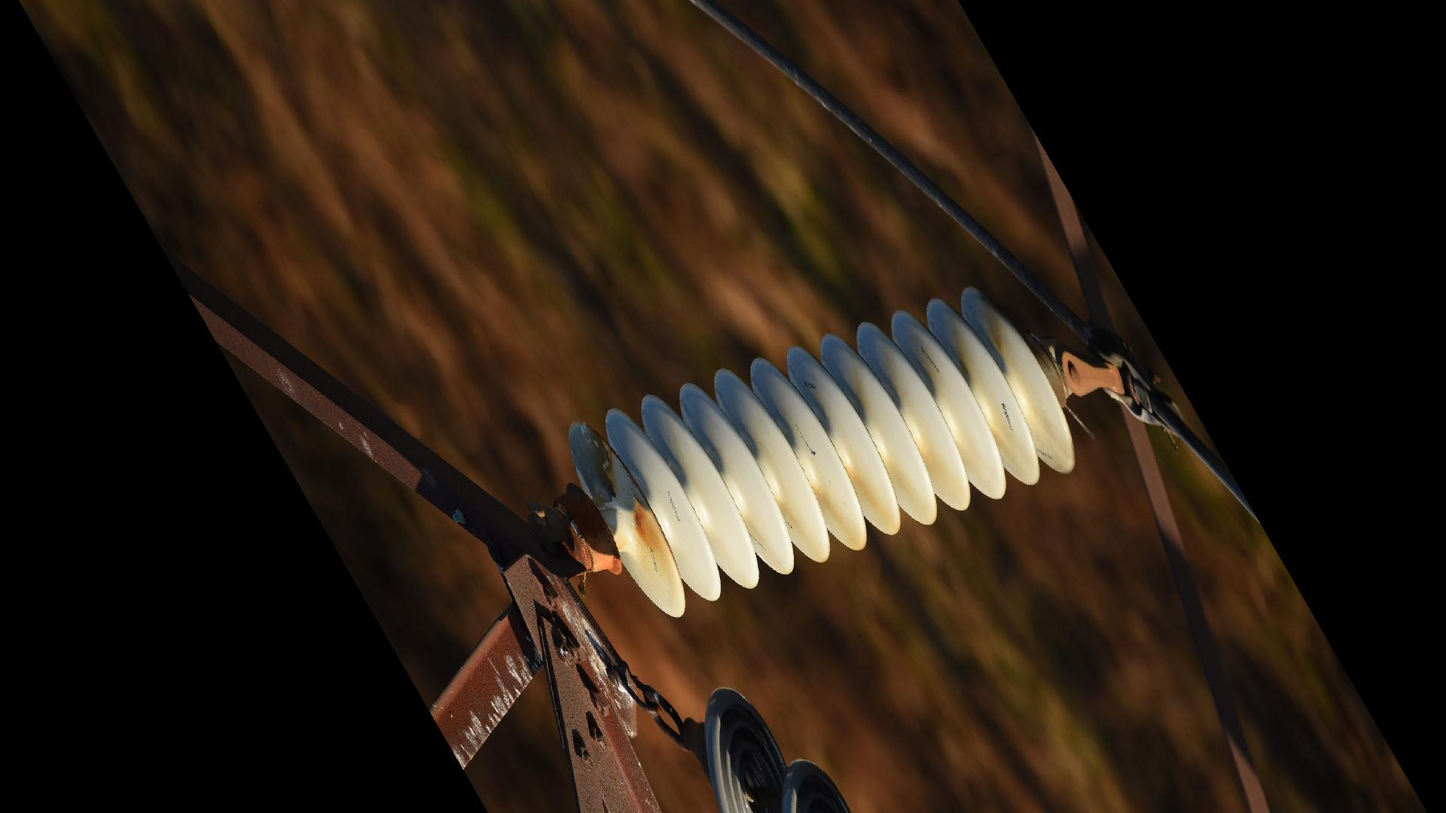insulator: (564, 282, 1082, 624)
insulator_flashover: (563, 416, 618, 506)
